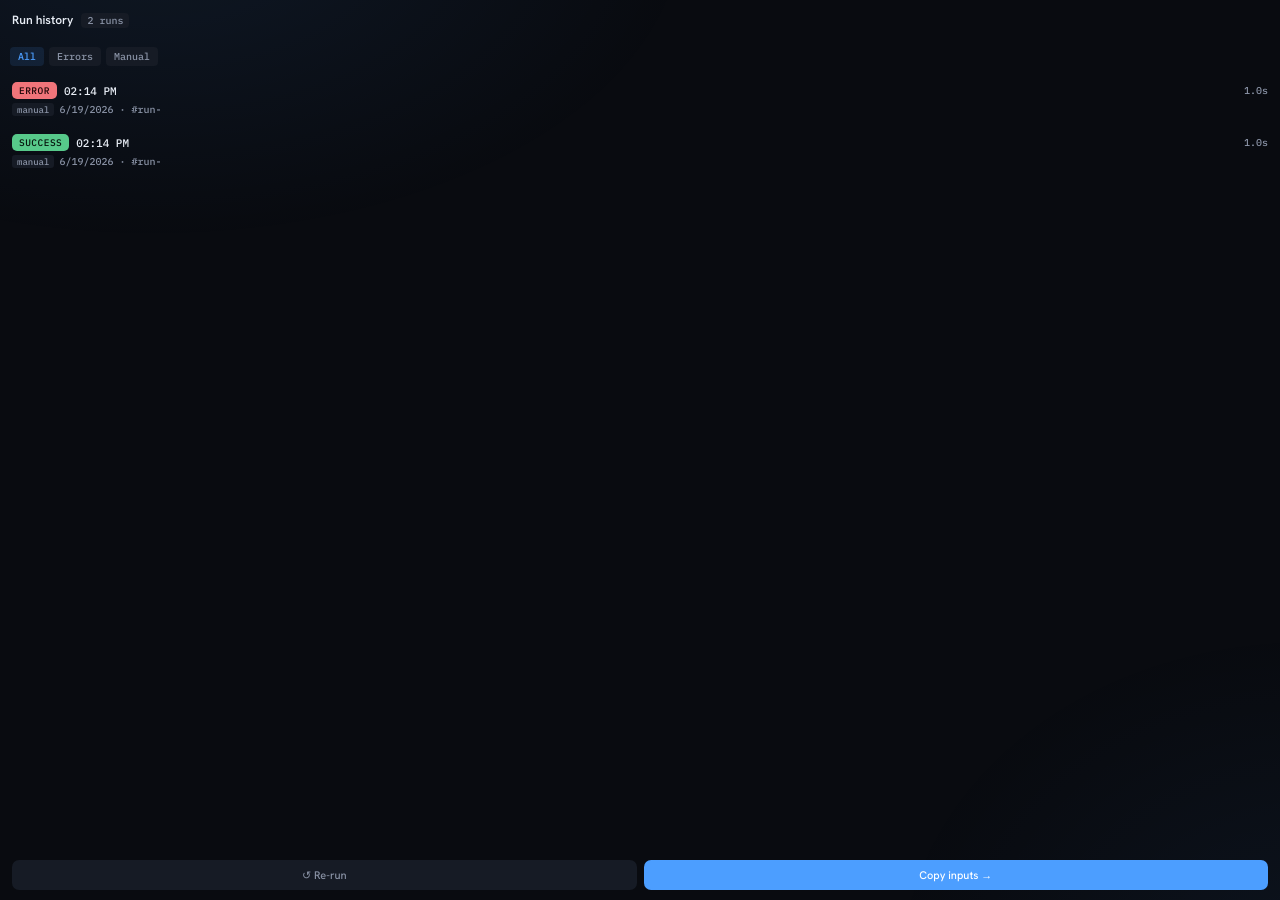
Test: RunList › filters to errors when Errors chip is clicked
Click the button "Errors" at (75, 56), box x1=49 y1=47 x2=101 y2=66
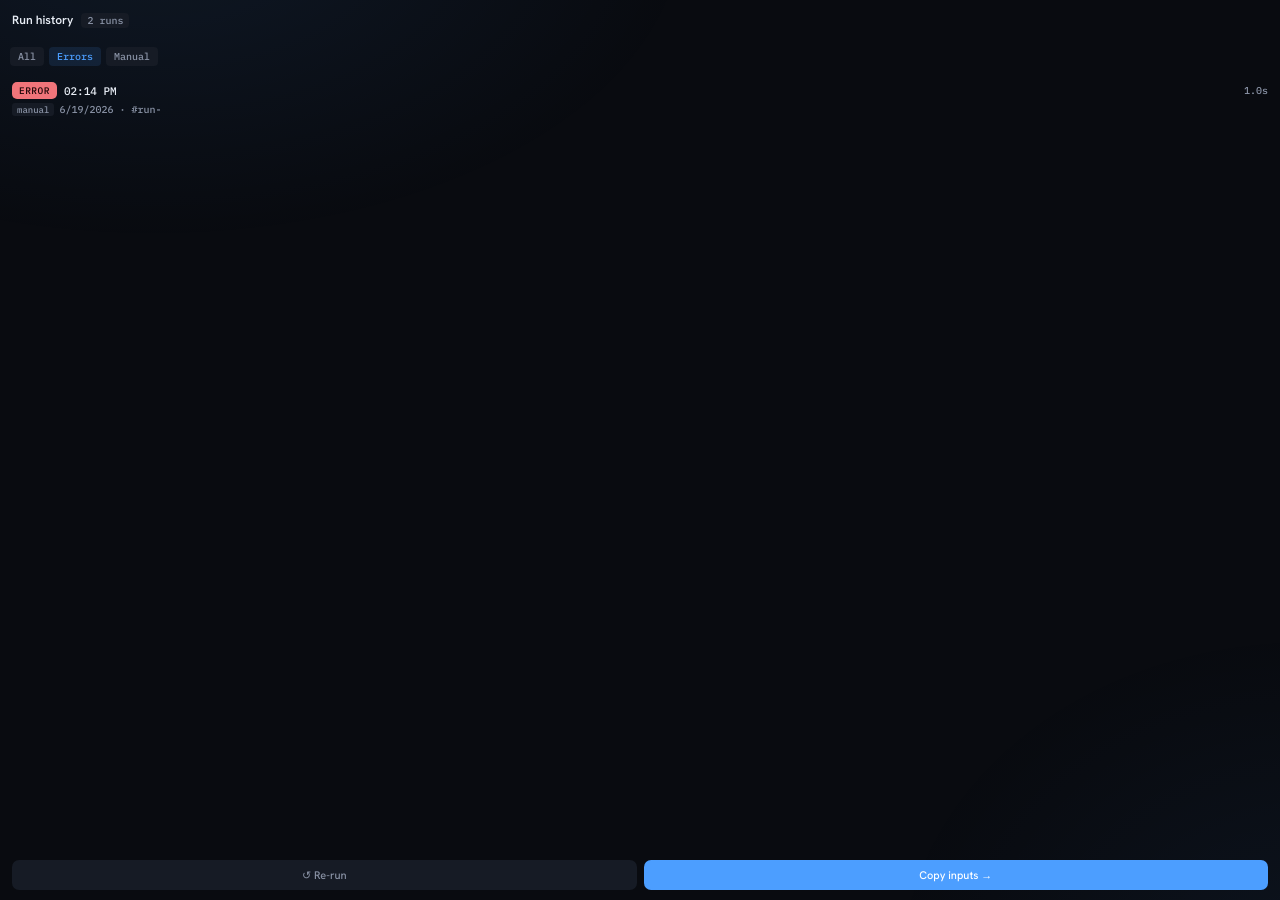
Check: the text "error" is shown, box x1=12 y1=82 x2=57 y2=99
Check: the text "success" is not shown
